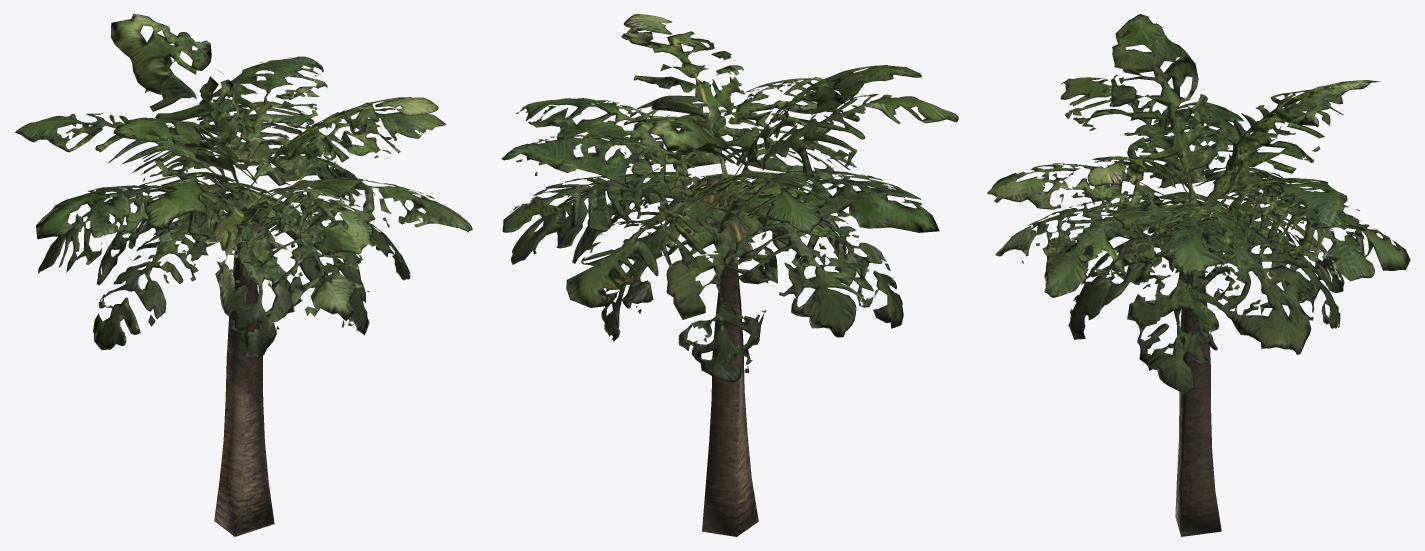
The picture shows the model from 3 angles, left to right: view 1: azimuth 30°, elevation 25°; view 2: azimuth 150°, elevation 25°; view 3: azimuth 270°, elevation 25°; orthographic projection. The views are drawn at different scales.
Bounding box in the file's own units: 1.85 × 1.99 × 1.74.
Materials: 1 (1 with a texture image).
